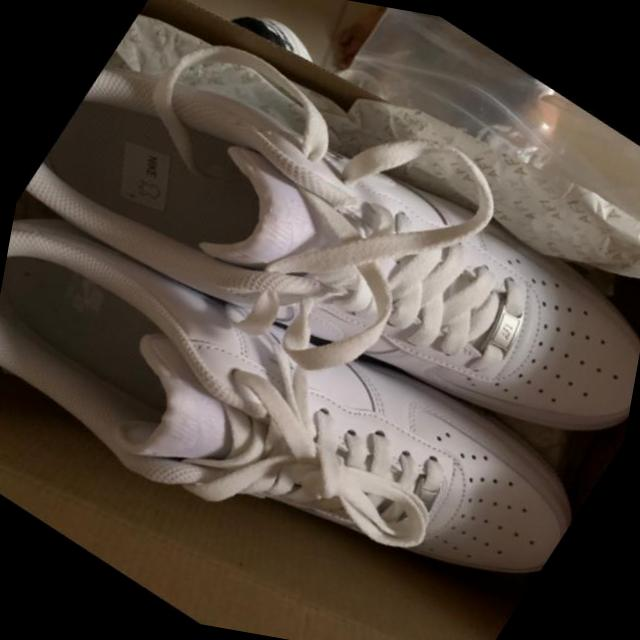nike_original_airforce: (0, 0, 640, 547), (0, 129, 639, 640)
